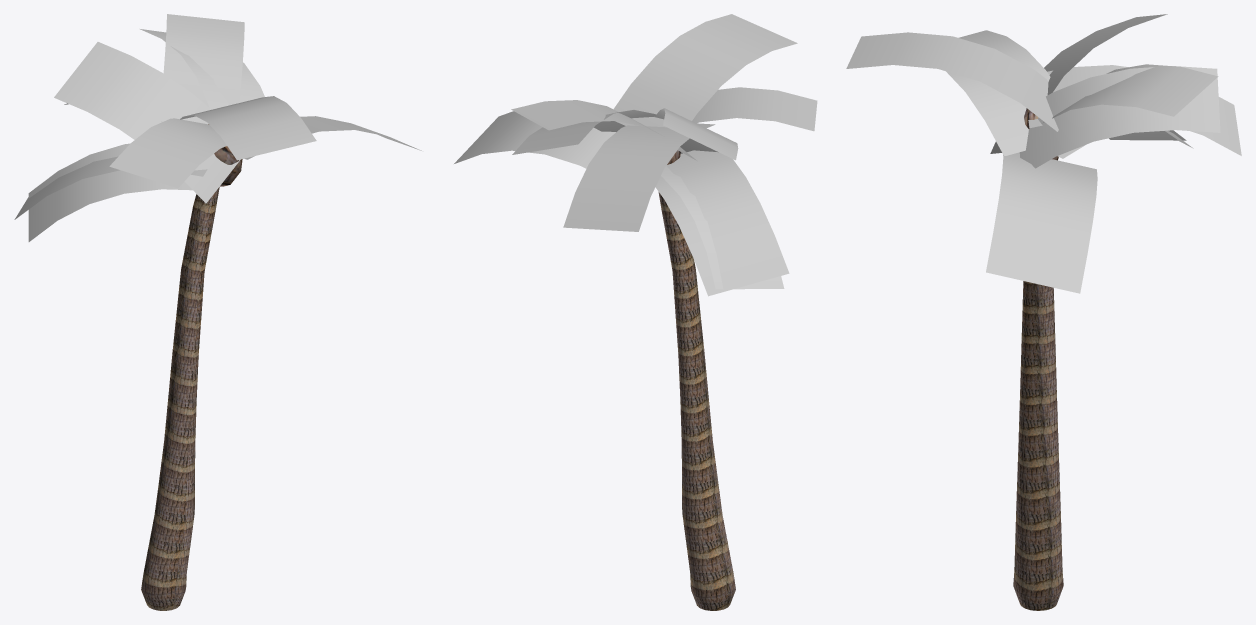
The model's file is Coconut_tree_4.fbx.
3 renders of one model, left to right at view 1: azimuth 30°, elevation 25°; view 2: azimuth 150°, elevation 25°; view 3: azimuth 270°, elevation 25°, orthographic. The views are drawn at different scales.
Parts seen in each view (by area): view 1: Coconut_tree_4; view 2: Coconut_tree_4; view 3: Coconut_tree_4.
Boxes of the visible parts, x1,y1,x2,y2 form: Coconut_tree_4: (14, 14, 421, 610); Coconut_tree_4: (454, 14, 817, 610); Coconut_tree_4: (846, 14, 1241, 610).
Size of the model in its own units: 2428 by 3424 by 2100.
